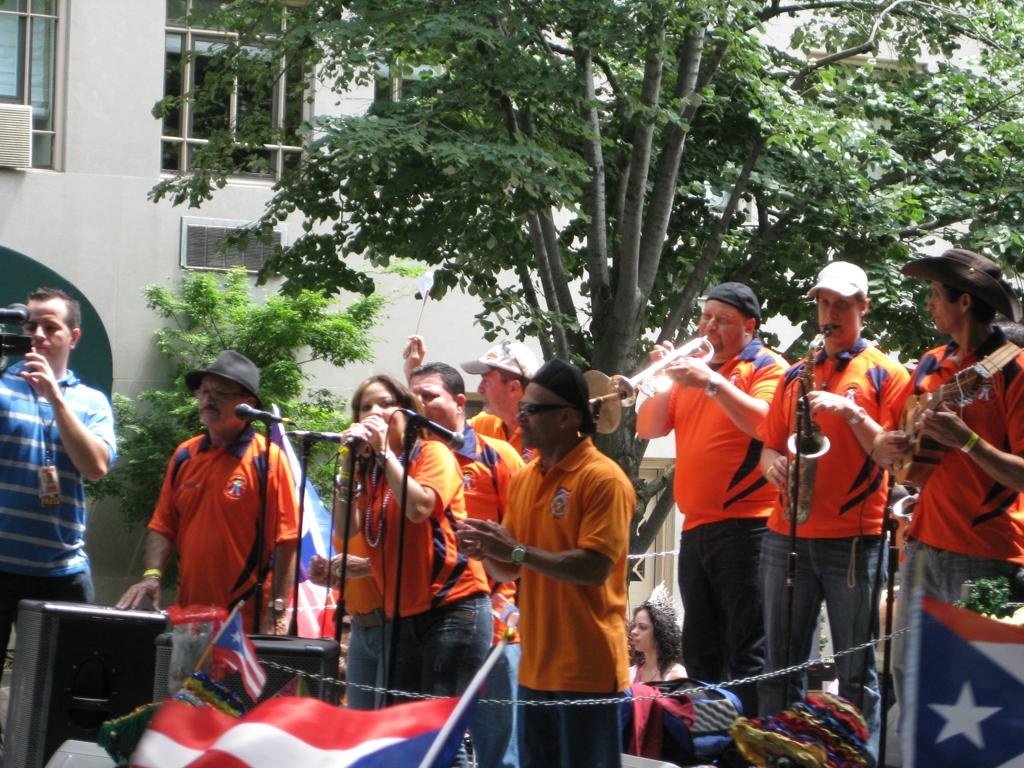human_face: (20, 298, 66, 360), (408, 378, 456, 436), (516, 387, 560, 447), (358, 388, 404, 442), (698, 303, 744, 357), (818, 284, 858, 342), (476, 363, 520, 413), (198, 376, 240, 424), (928, 276, 962, 328)
